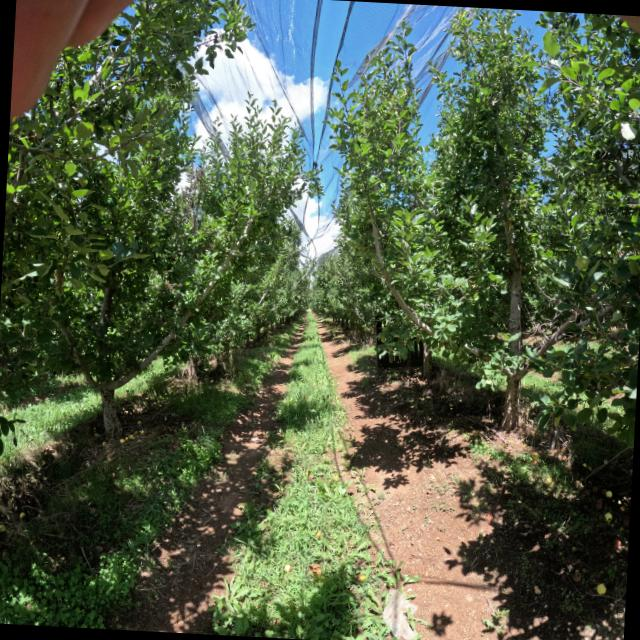-FireBlight-: (180, 168, 206, 217), (163, 277, 183, 292), (56, 262, 64, 294)
